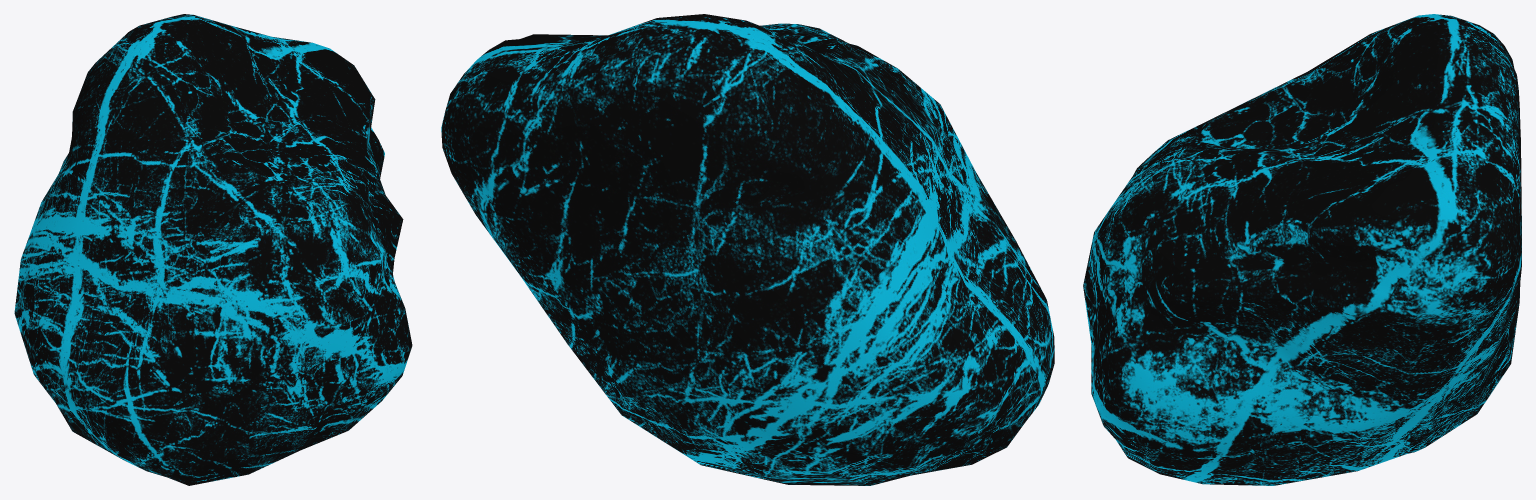
Rendered from glowing_rock.glb.
The picture shows the model from 3 angles, left to right: view 1: azimuth 30°, elevation 25°; view 2: azimuth 150°, elevation 25°; view 3: azimuth 270°, elevation 25°; orthographic projection. The views are drawn at different scales.
Visible parts, largest first — view 1: Object_2; view 2: Object_2; view 3: Object_2.
Part boxes in pixels (x1,y1,x2,y2): Object_2: (14,14,412,485); Object_2: (441,14,1054,485); Object_2: (1083,14,1521,485).
Size of the model in its own units: 52.82 by 51.01 by 44.75.
Materials: 1 (1 with a texture image).
